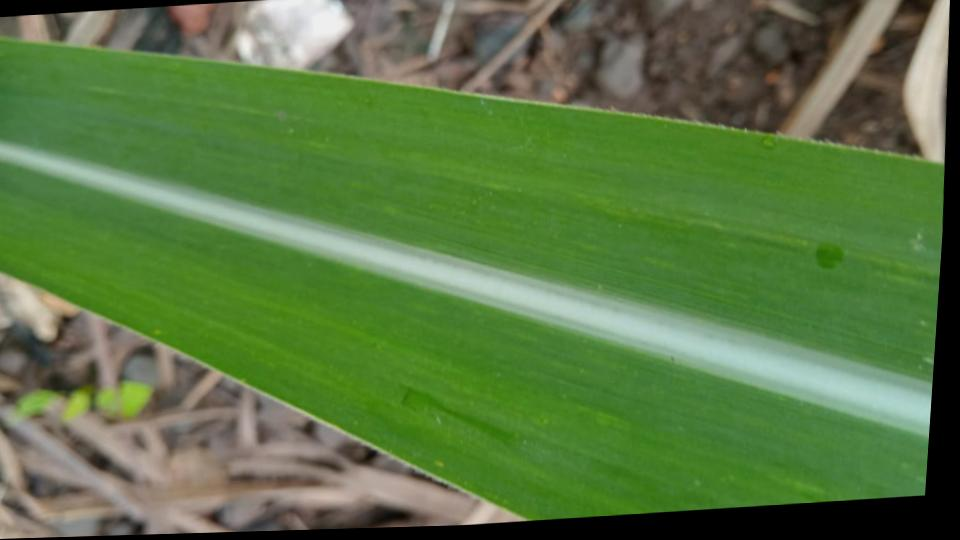Healthy: (0, 36, 944, 521)
